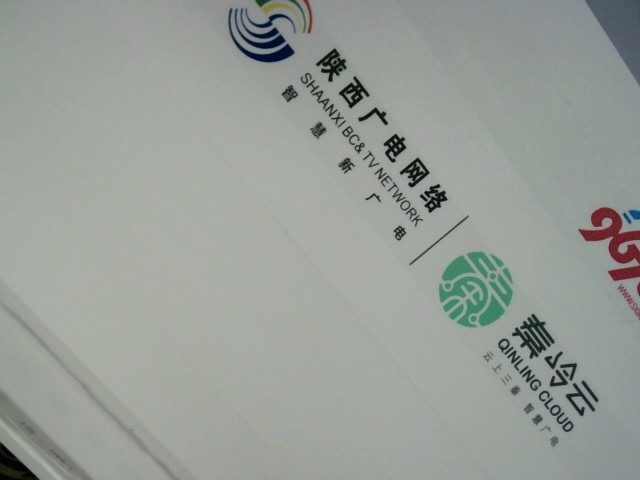AE_QinLing: (430, 243, 600, 455)
